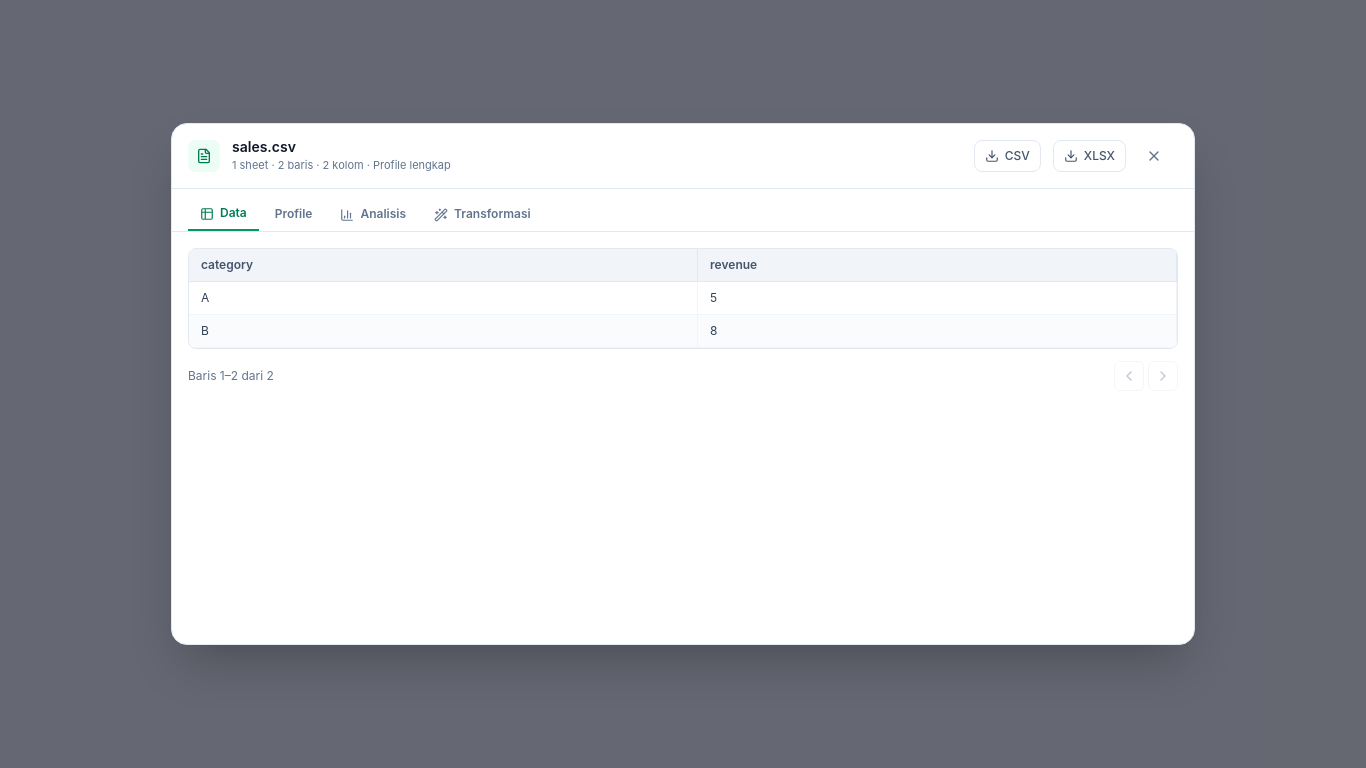
it: Workspace tabular modal › previews changes and requires confirmation before creating a derived artifact
Expected: the text "A" is shown, [201,290,209,305]
Click the button "Transformasi": (482, 214) [422,197,543,231]
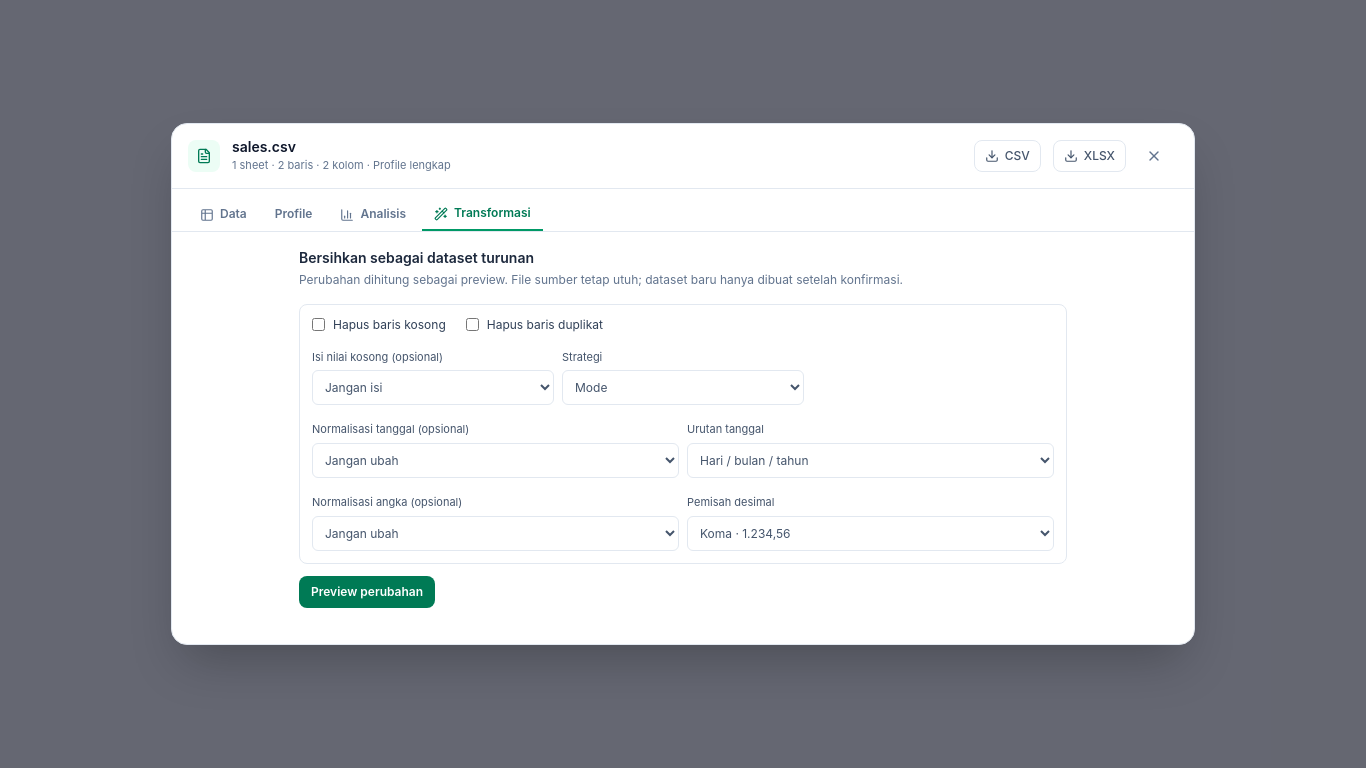
Click the checkbox labelled "Hapus baris duplikat": (472, 325) [466,318,479,331]
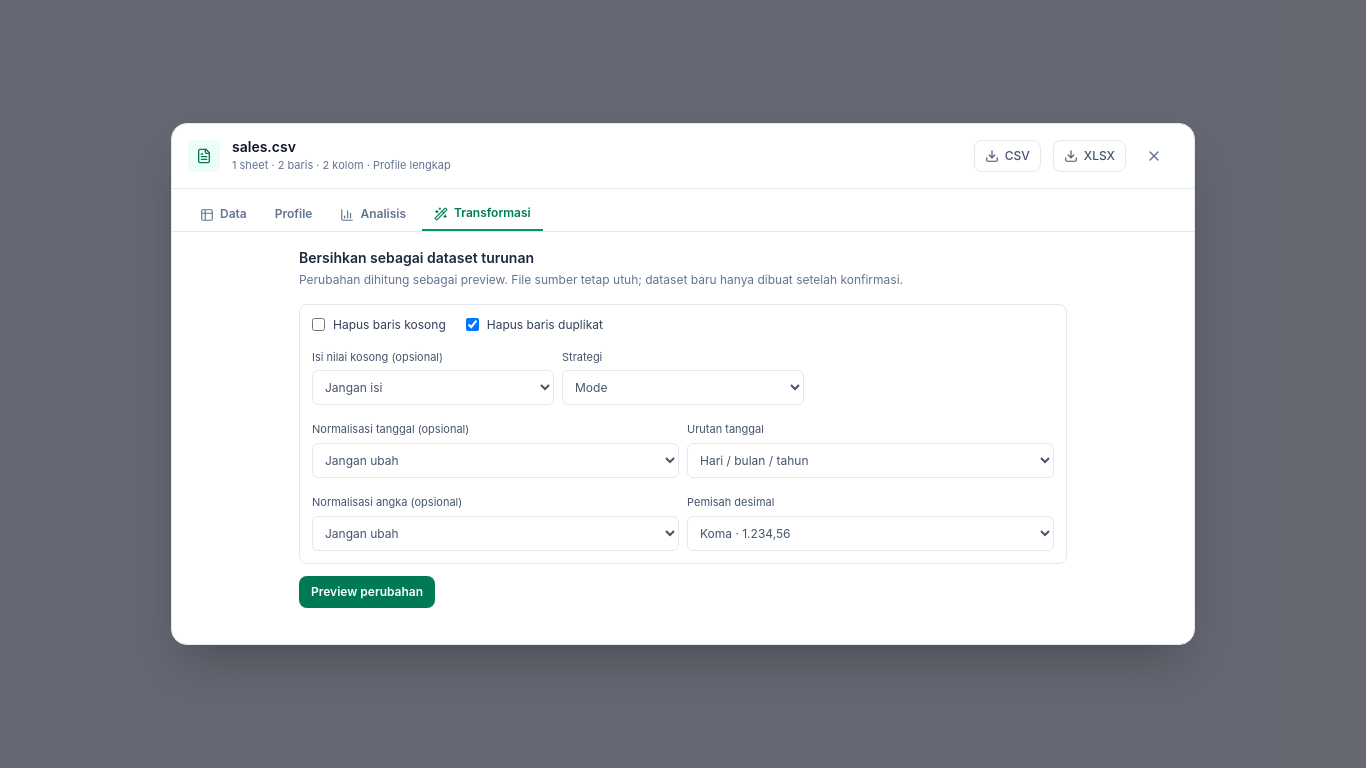
Click the button "Preview perubahan": (367, 592) [299,576,435,608]
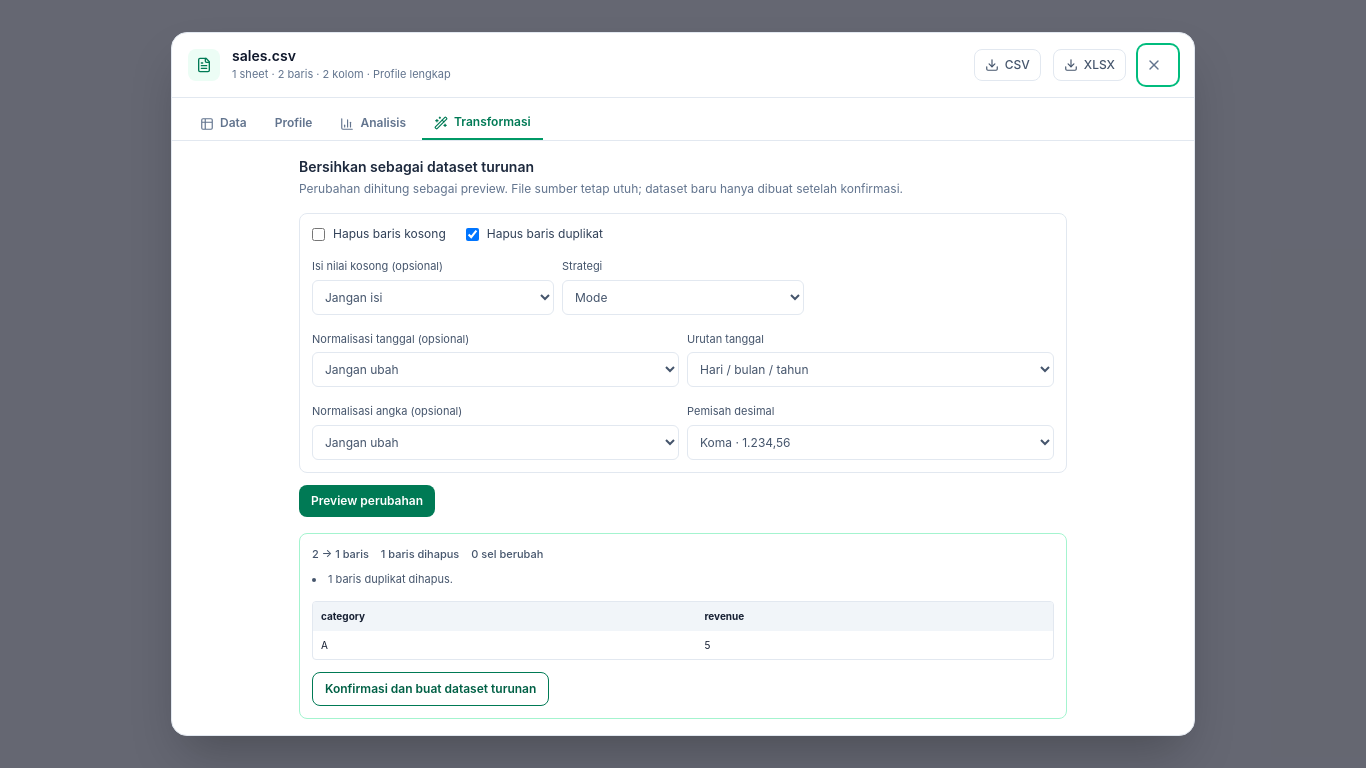
Expected: the list item "1 baris duplikat dihapus." is shown, [328,572,453,586]
Click the button "Konfirmasi dan buat dataset turunan": (431, 689) [312,672,549,706]
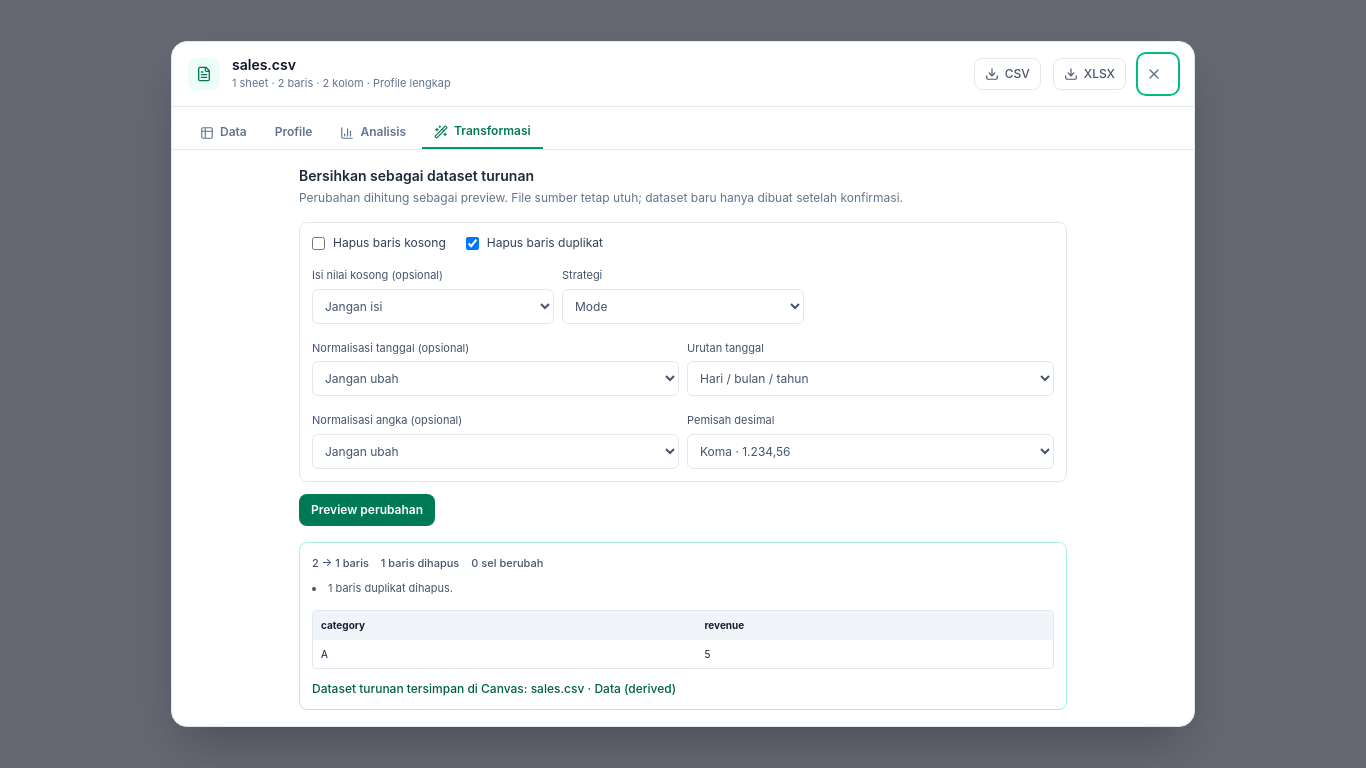
Expected: the text "Dataset turunan tersimpan di Canvas" is shown, [312,681,531,696]
